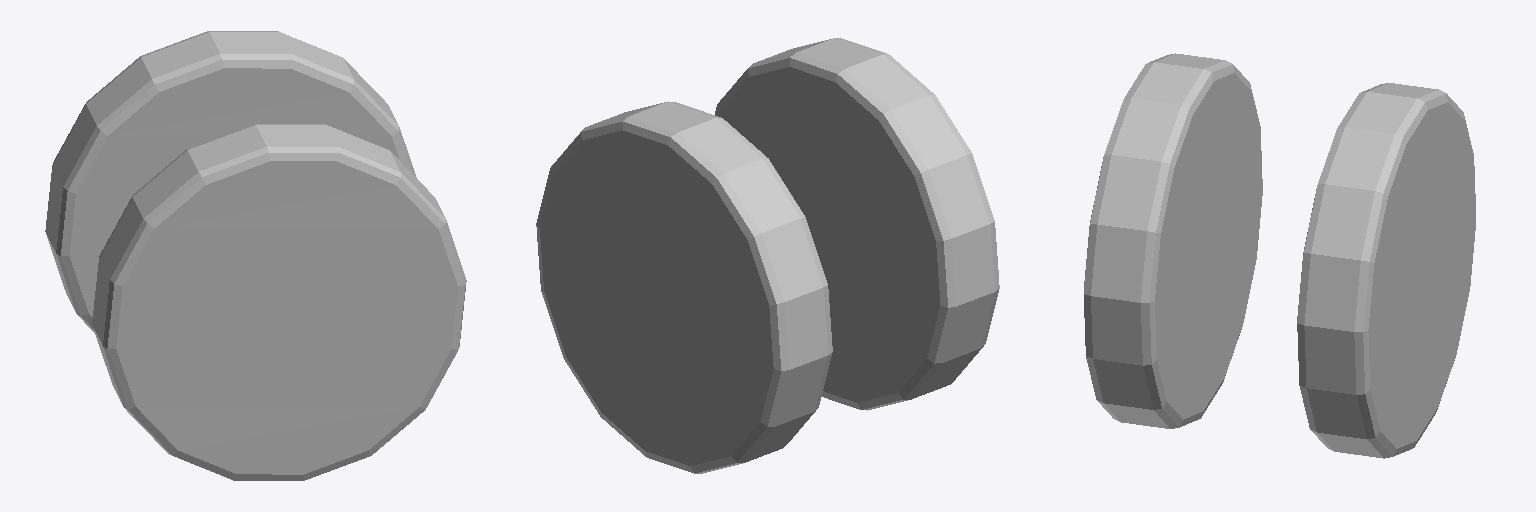
3 views of the same model, side by side, from view 1: azimuth 30°, elevation 25°; view 2: azimuth 150°, elevation 25°; view 3: azimuth 270°, elevation 25° (orthographic).
Parts seen in each view (by area): view 1: part5:wheel 2; view 2: part5:wheel 2; view 3: part5:wheel 2.
Part boxes in pixels (x1,y1,x2,y2): part5:wheel 2: (45, 31, 466, 480); part5:wheel 2: (536, 38, 999, 473); part5:wheel 2: (1084, 53, 1475, 458).
Size of the model in its own units: 0.0586 by 0.0495 by 0.0524.